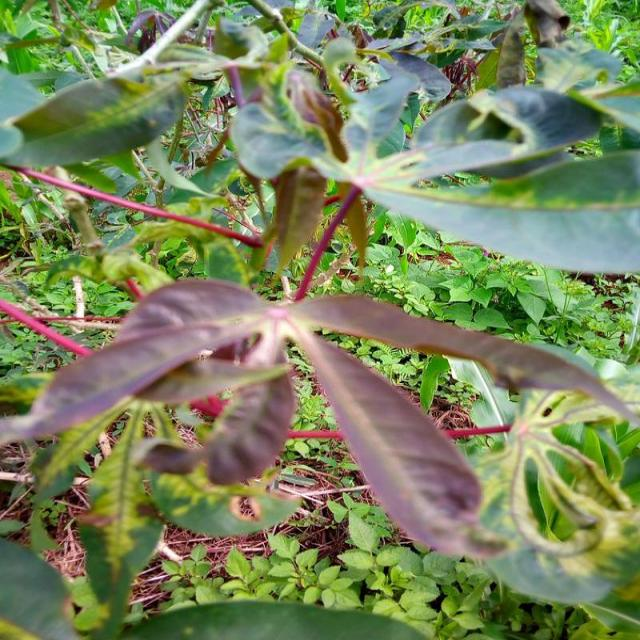cassava leaf: (0, 3, 638, 635), (0, 63, 189, 170)
